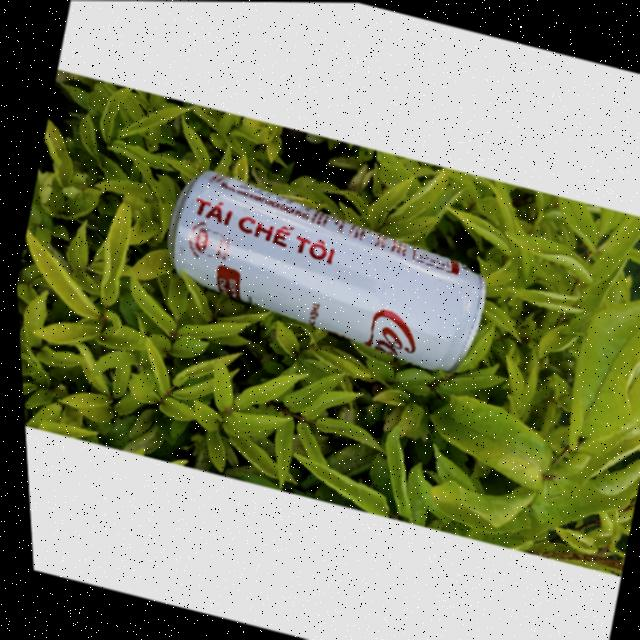Coca Cola Plus: (144, 159, 499, 383)
